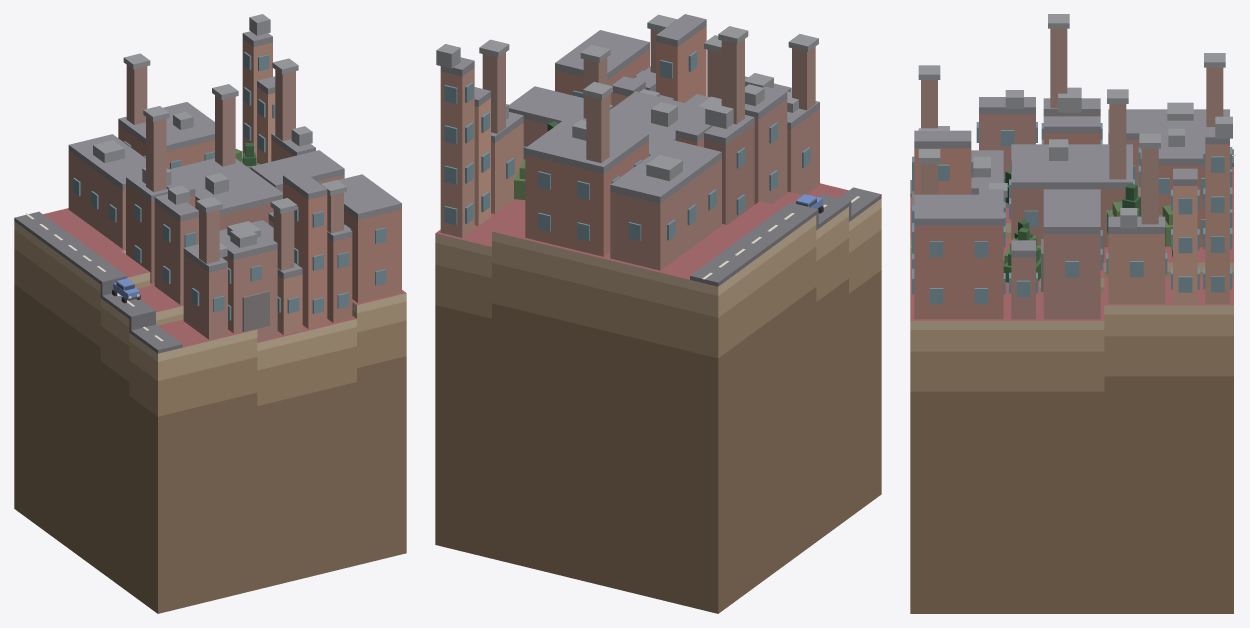
File: block_26_engineered_10.glb
3 renders of one model, left to right at view 1: azimuth 30°, elevation 25°; view 2: azimuth 150°, elevation 25°; view 3: azimuth 270°, elevation 25°, orthographic. The views are drawn at different scales.
Visible parts, largest first — view 1: Patch_UpperRight_b26_ES, Factories_UpperRight_b26_ES, Roads_UpperRight_b26_ES; view 2: Patch_UpperRight_b26_ES, Factories_UpperRight_b26_ES, Roads_UpperRight_b26_ES; view 3: Patch_UpperRight_b26_ES, Factories_UpperRight_b26_ES, FTree_13_ES.
Part boxes in pixels (x1,y1,x2,y2): Patch_UpperRight_b26_ES: (14,208,406,613); Factories_UpperRight_b26_ES: (68,14,401,341); Roads_UpperRight_b26_ES: (14,211,182,353); Patch_UpperRight_b26_ES: (435,183,881,613); Factories_UpperRight_b26_ES: (436,14,819,270); Roads_UpperRight_b26_ES: (690,187,881,286); Patch_UpperRight_b26_ES: (910,167,1233,613); Factories_UpperRight_b26_ES: (911,14,1232,319); FTree_13_ES: (1003,227,1040,282).
Size of the model in its own units: 9.5 by 16.01 by 9.55.
